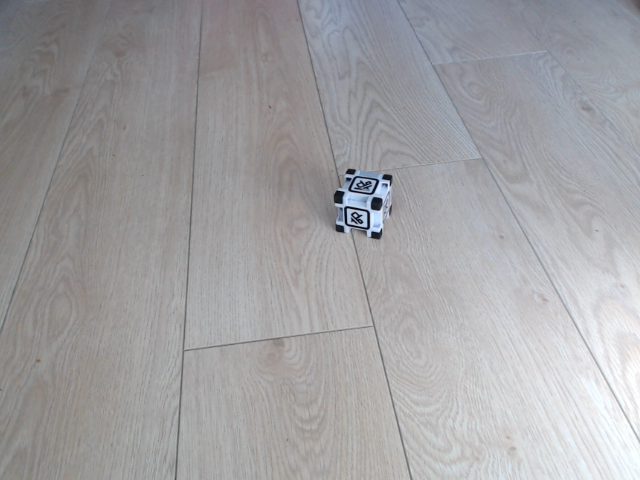block: (329, 164, 403, 244)
